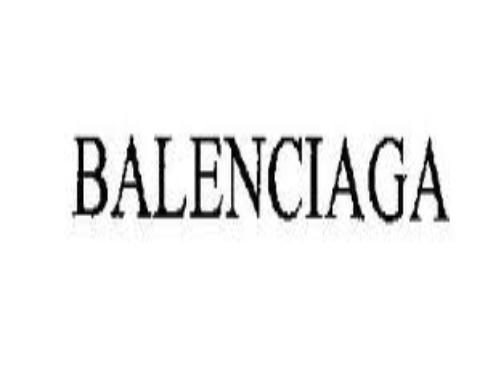BALENCIAGA: (69, 124, 451, 235)
